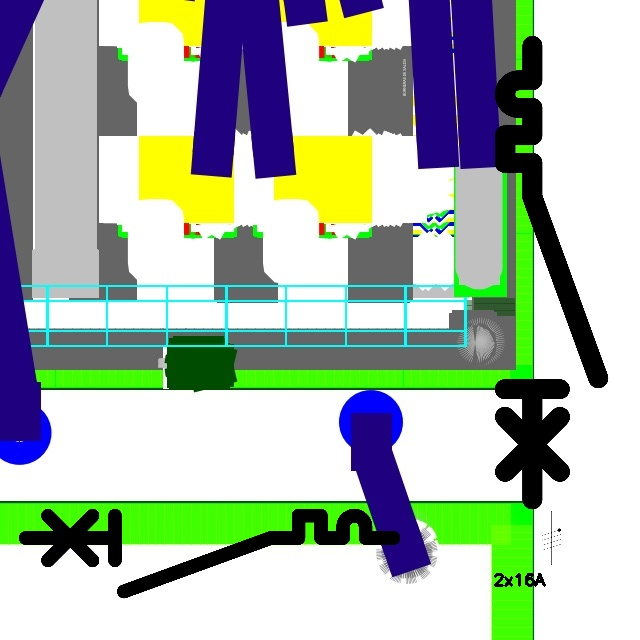interruptor_termomagnetico: (493, 34, 610, 511), (16, 506, 403, 601)
